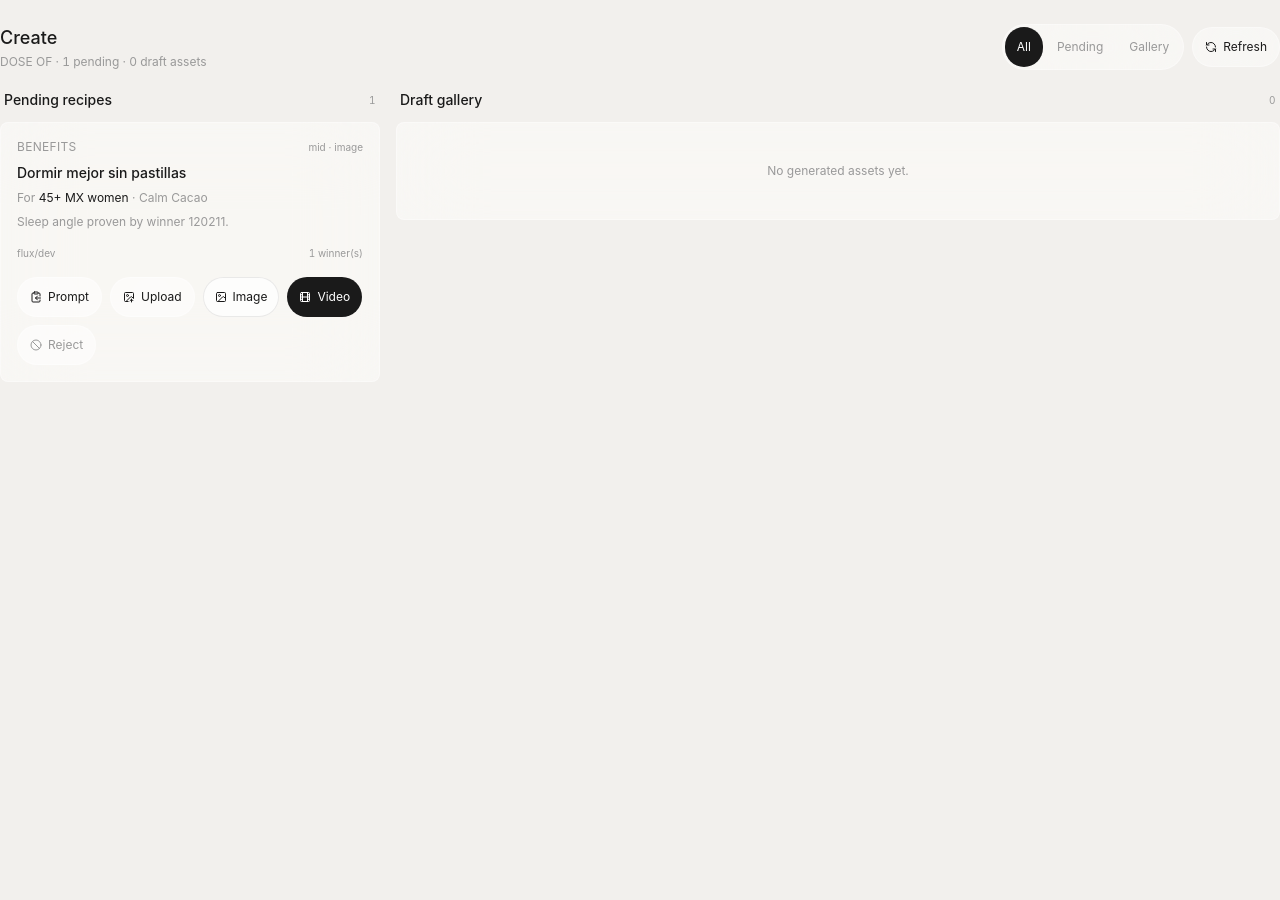
Test: CreateView › reject hides a pending recipe and sends feedback reason
Click the button with aria-label "reject dormir mejor": [57, 345] box [17,325,96,365]
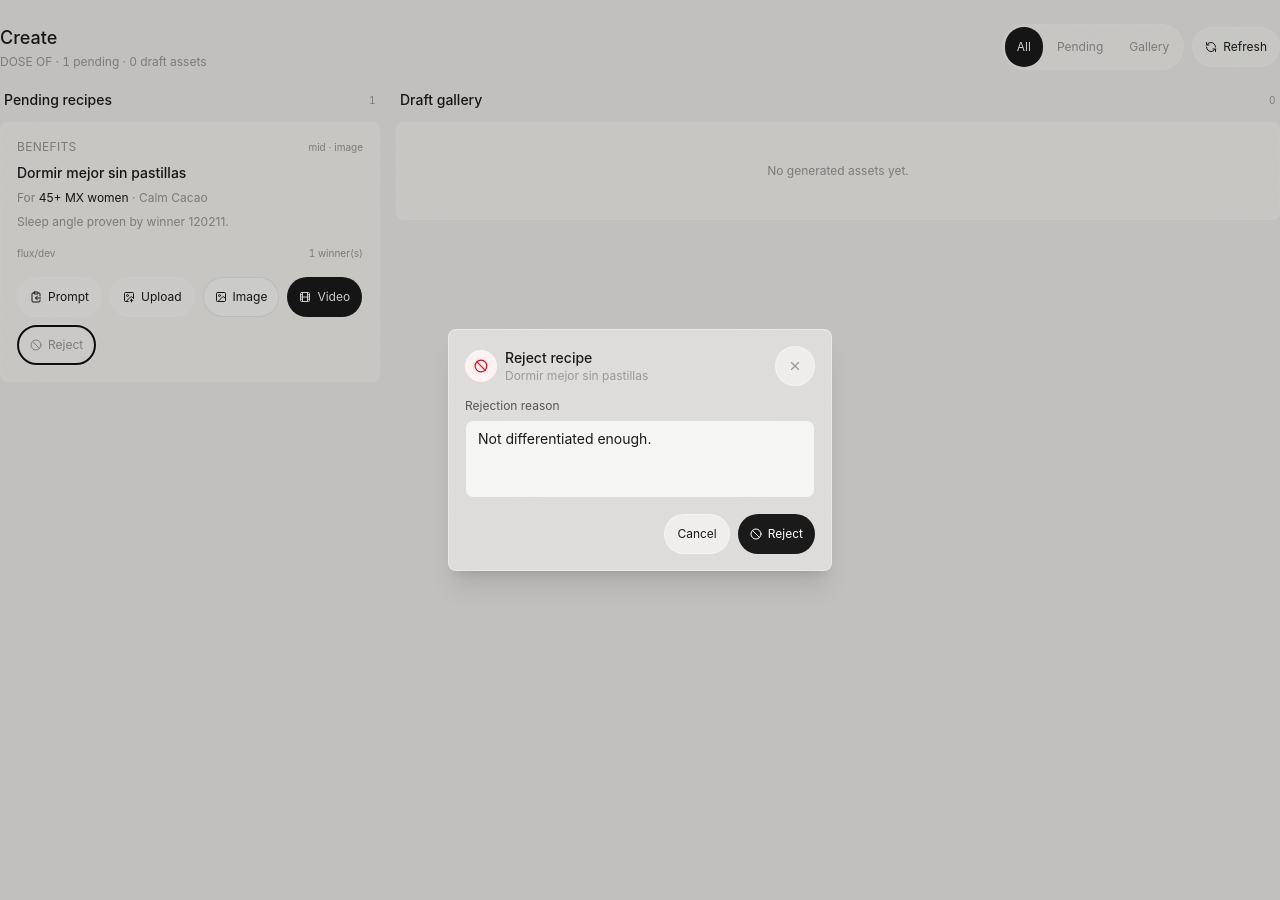
Replace the text in the text box labelled "Rejection reason" with "Too close to the cacao ritual.": [640, 459] box [465,420,815,498]
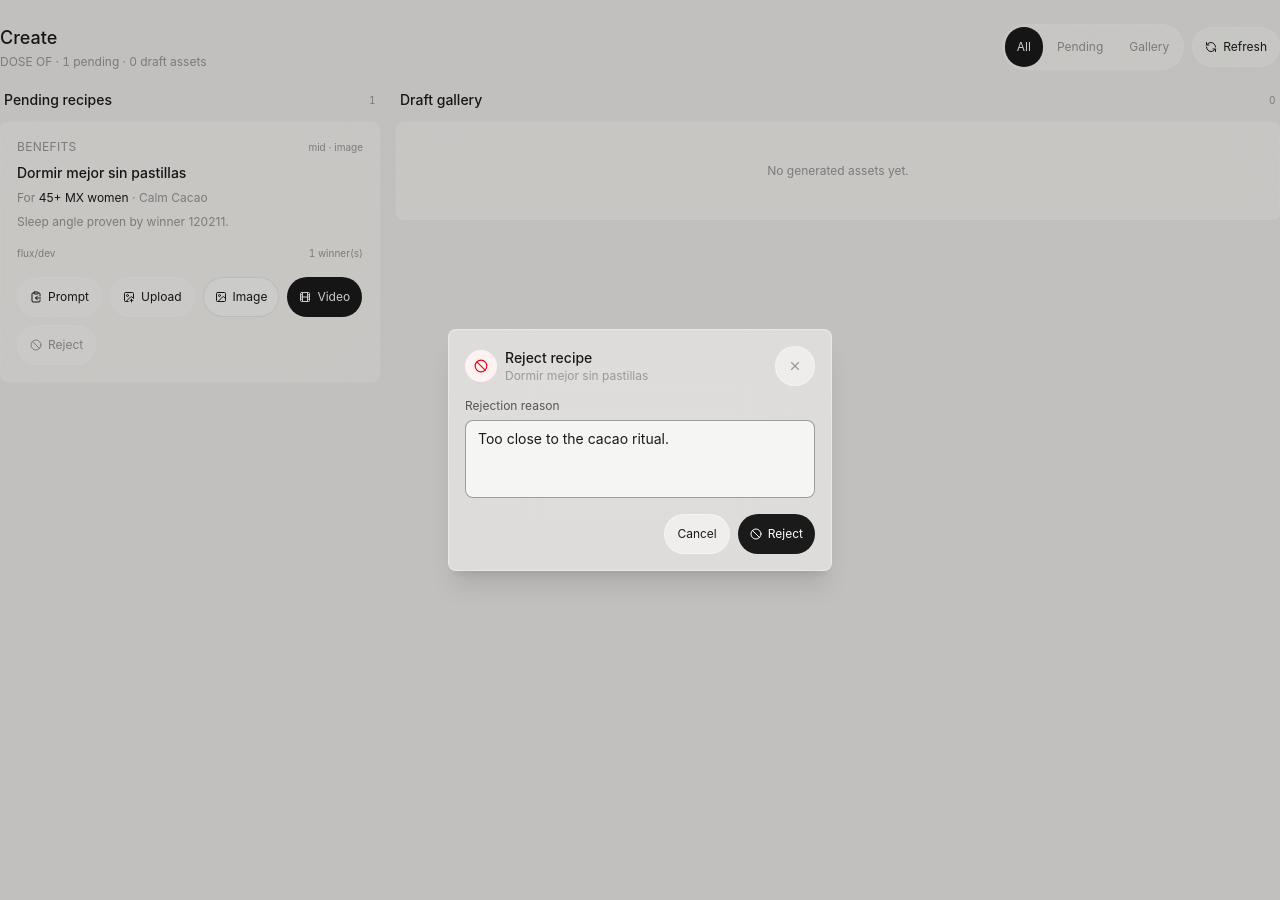
Click the button "Reject": [776, 534] box [738,514,815,554]
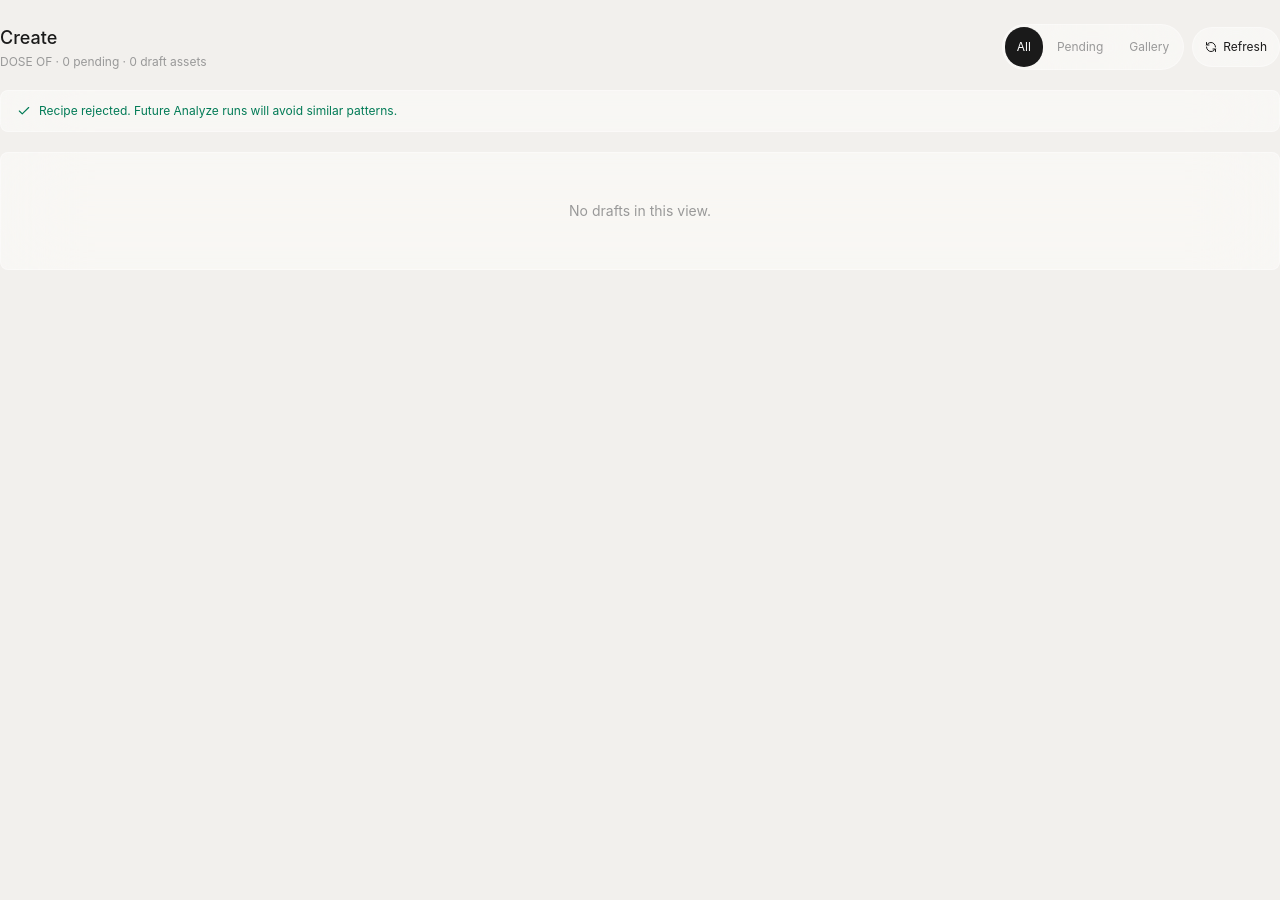
Now the element with test id "recipe-card" is gone
Now the message shows "Future Analyze runs", box [39,103,397,118]
